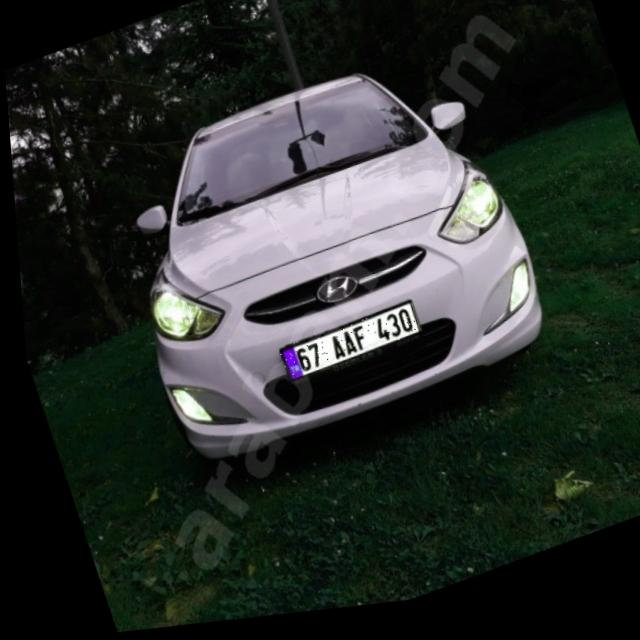license_plate: (270, 307, 418, 389)
